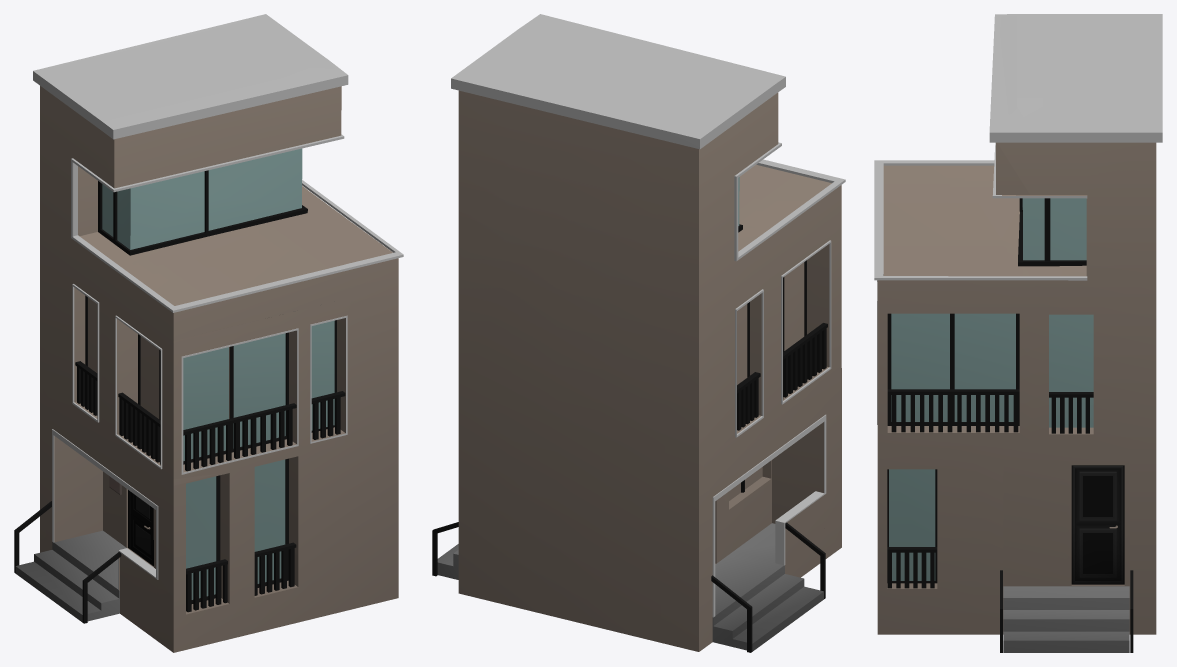
Rendered from TownHouseBrown.fbx.
3 renders of one model, left to right at view 1: azimuth 30°, elevation 25°; view 2: azimuth 150°, elevation 25°; view 3: azimuth 270°, elevation 25°, orthographic. The views are drawn at different scales.
Visible parts, largest first — view 1: Cube.002; view 2: Cube.002; view 3: Cube.002.
Part boxes in pixels (<box>): Cube.002: <box>14,14,403,652</box>; Cube.002: <box>432,14,845,652</box>; Cube.002: <box>874,14,1162,652</box>.
Bounding box in the file's own units: 12.58 × 15.65 × 24.25.
